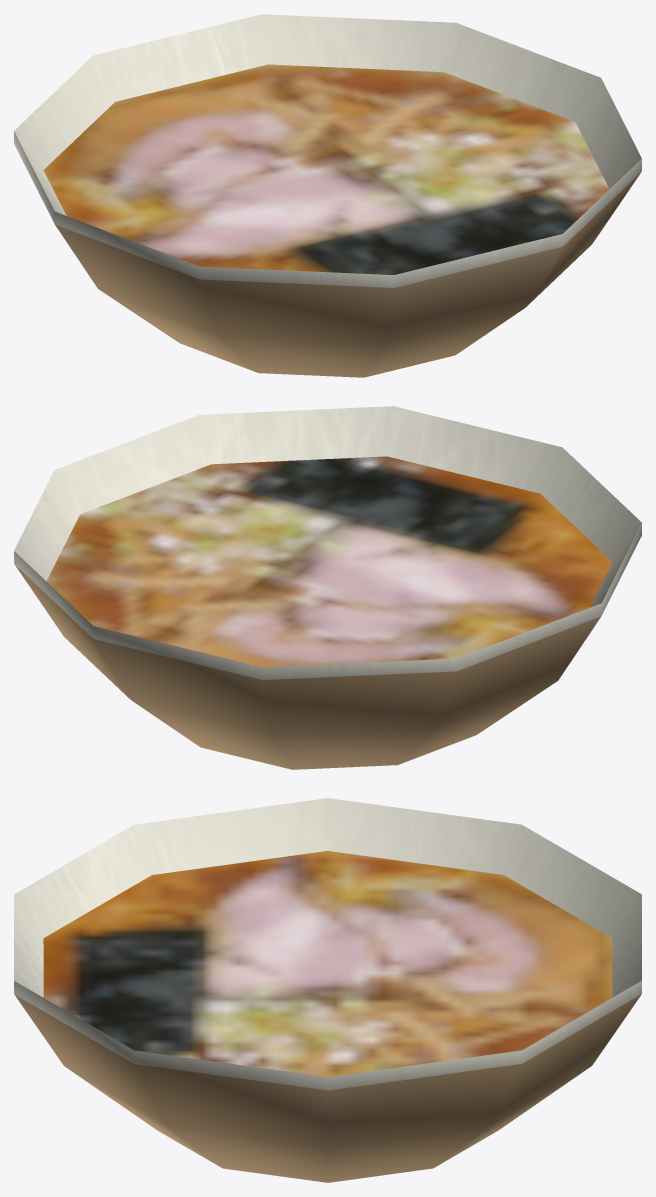
File: dinerfoods07.fbx
The picture shows the model from 3 angles, top to bottom: view 1: azimuth 30°, elevation 25°; view 2: azimuth 150°, elevation 25°; view 3: azimuth 270°, elevation 25°; orthographic projection. The views are drawn at different scales.
Visible parts, largest first — view 1: dinerfoods07; view 2: dinerfoods07; view 3: dinerfoods07.
Part boxes in pixels (<box>): dinerfoods07: <box>14,14,641,377</box>; dinerfoods07: <box>14,406,641,769</box>; dinerfoods07: <box>14,798,641,1182</box>.
Bounding box in the file's own units: 28.51 × 8.09 × 27.12.
